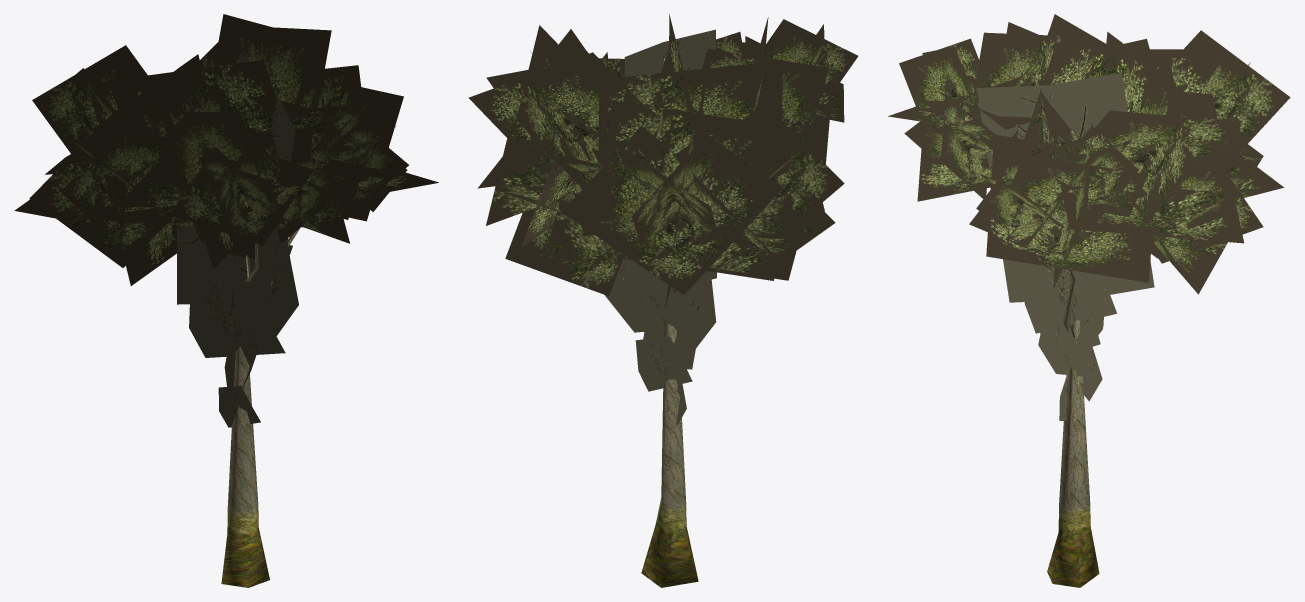
File: core_decd_kenalpatree_a1_l1.fbx
3 renders of one model, left to right at view 1: azimuth 30°, elevation 25°; view 2: azimuth 150°, elevation 25°; view 3: azimuth 270°, elevation 25°, orthographic. The views are drawn at different scales.
Parts seen in each view (by area): view 1: mesh_node; view 2: mesh_node; view 3: mesh_node.
Part boxes in pixels (x1,y1,x2,y2): mesh_node: (14, 14, 438, 587); mesh_node: (468, 14, 858, 587); mesh_node: (888, 14, 1290, 587).
Bounding box in the file's own units: 33.37 × 48.85 × 33.5.
